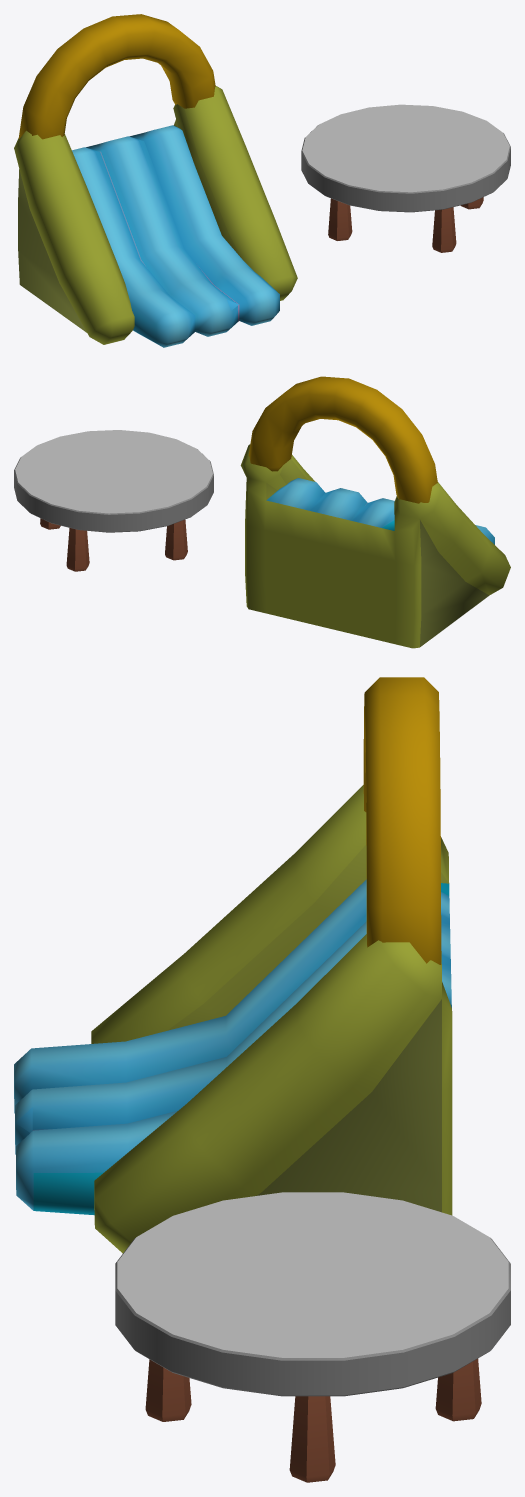
Rendered from Slide with top round table.fbx.
3 renders of one model, top to bottom at view 1: azimuth 30°, elevation 25°; view 2: azimuth 150°, elevation 25°; view 3: azimuth 270°, elevation 25°, orthographic. The views are drawn at different scales.
Visible parts, largest first — view 1: Slide, Top round table; view 2: Slide, Top round table; view 3: Slide, Top round table.
Part boxes in pixels (left/top/right/bottom): Slide: left=14, top=14, right=297, bottom=347; Top round table: left=301, top=104, right=510, bottom=252; Slide: left=240, top=376, right=510, bottom=648; Top round table: left=14, top=430, right=213, bottom=571; Slide: left=14, top=677, right=452, bottom=1253; Top round table: left=115, top=1192, right=510, bottom=1482.
Bounding box in the file's own units: 366 × 191 × 181.
